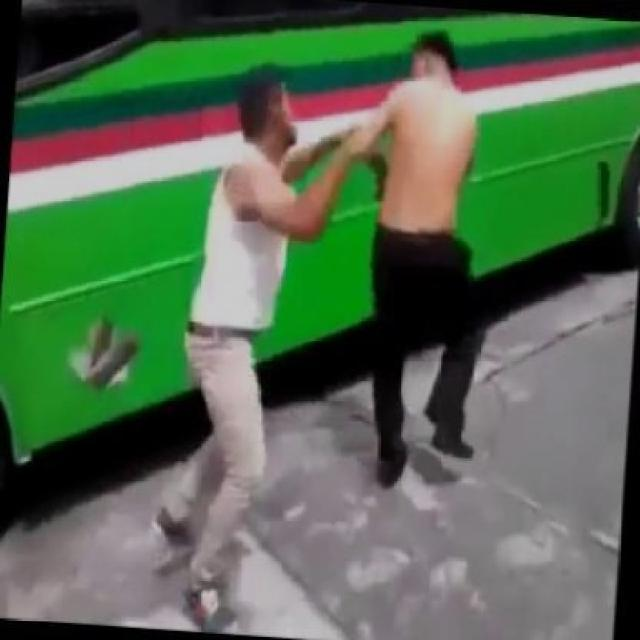fight: (148, 28, 498, 637)
